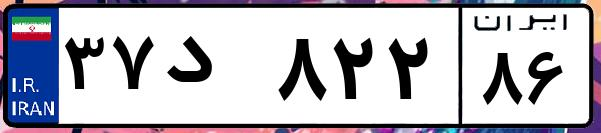2: (385, 28, 445, 110), (330, 28, 385, 110)
3: (57, 26, 110, 100)
6: (525, 38, 570, 115)
7: (110, 28, 158, 98)
8: (270, 28, 330, 110), (475, 38, 525, 113)
د: (158, 20, 270, 120)
